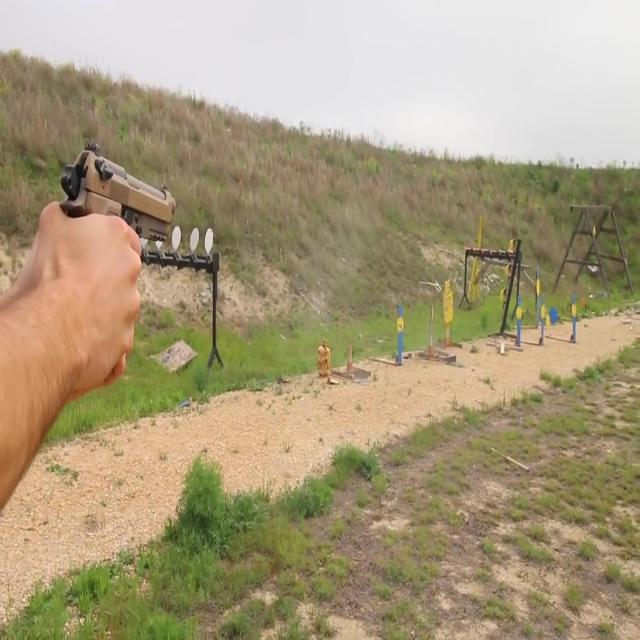Weapon: (36, 113, 208, 324)
